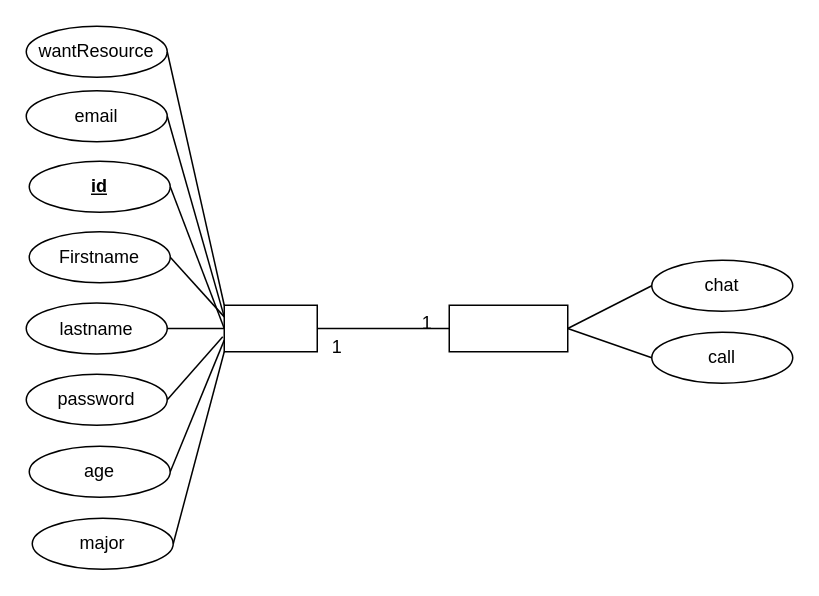
This 819x596 diagram has some shape labels left out. The centre of each missing label's shape, as x and y in pixels:
service: (508,328)
Student: (270,328)
